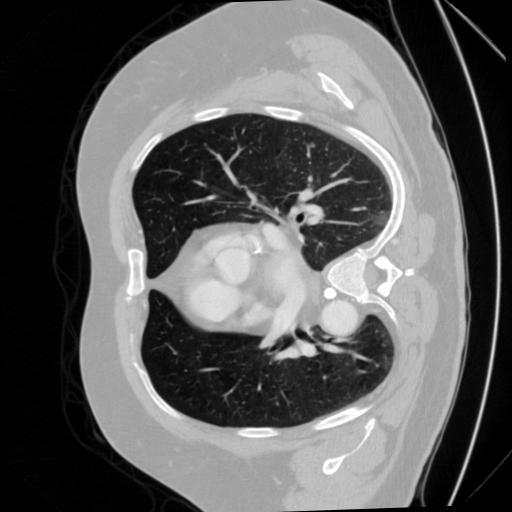nodule: (306, 139, 317, 150)
